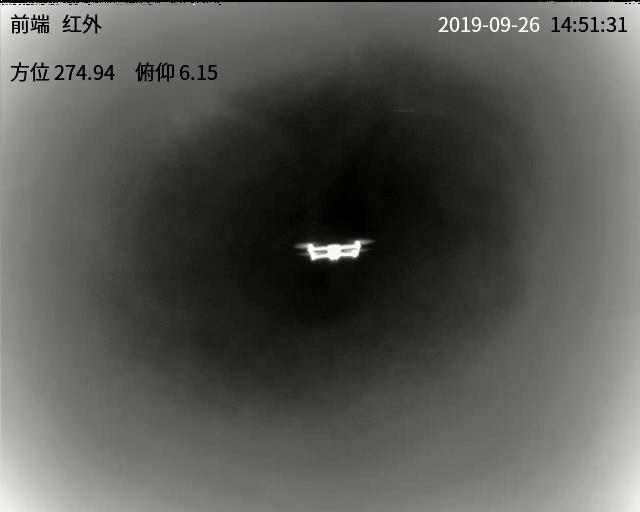DRONE: (297, 238, 368, 262)
